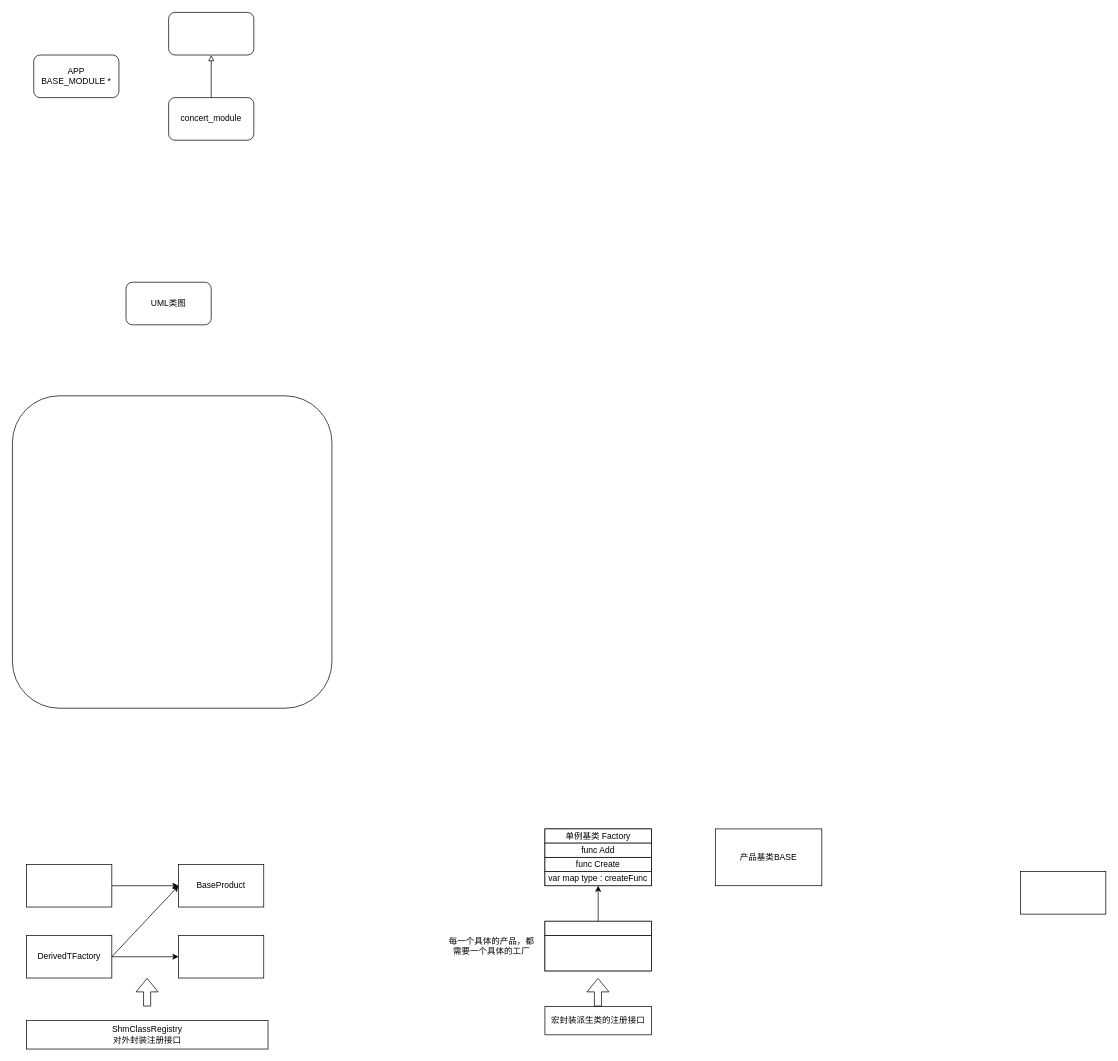
Some shapes in this 1118 by 1061 pixel diagram are drawn without their labels. Each missing label, with the box of its shape:
A依赖B：指习: (12, 395, 332, 708)
BASE_MODULE: (168, 12, 254, 55)
BaseFactory: (26, 864, 112, 907)
DerivedTProduct: (178, 935, 264, 978)
使用组合，而非继承 单例基类 Factory的方法: (544, 935, 651, 971)
具体工厂类 XXFactory: (544, 921, 651, 935)
